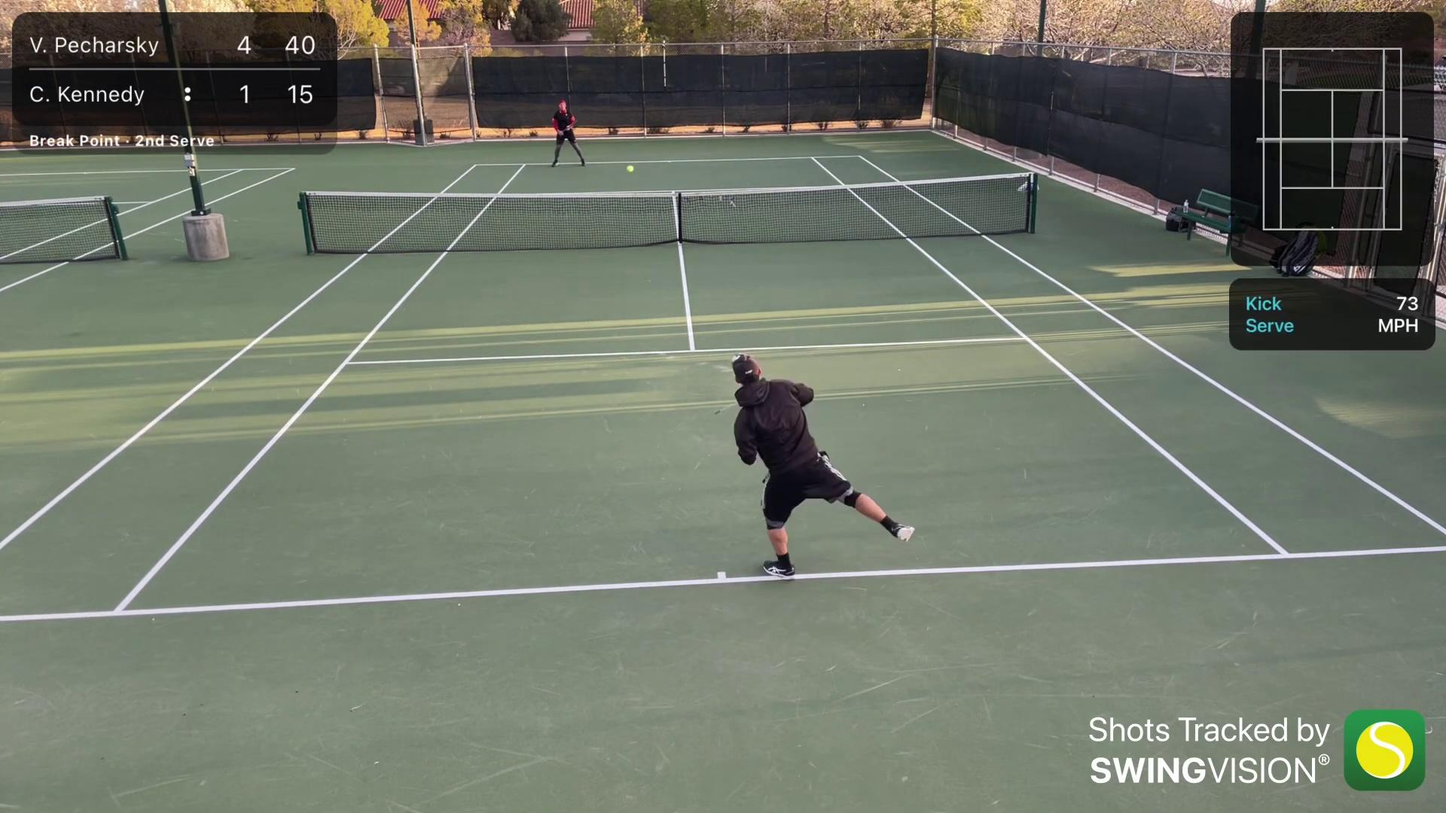ball: (625, 165, 635, 173)
